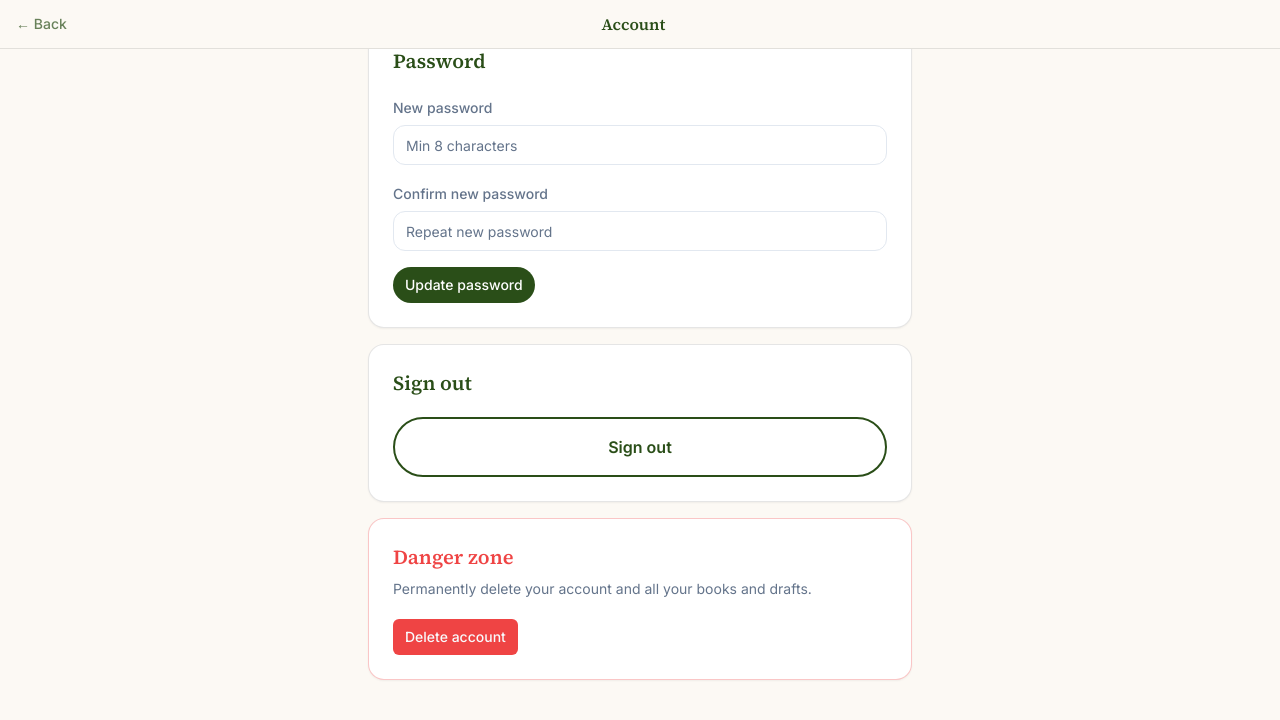
Scenario: Account page › delete account button opens the AlertDialog
The image size is (1280, 720).
(page scrolled)
Click the button "Delete account".
click(455, 637)  # box [393,619,518,655]
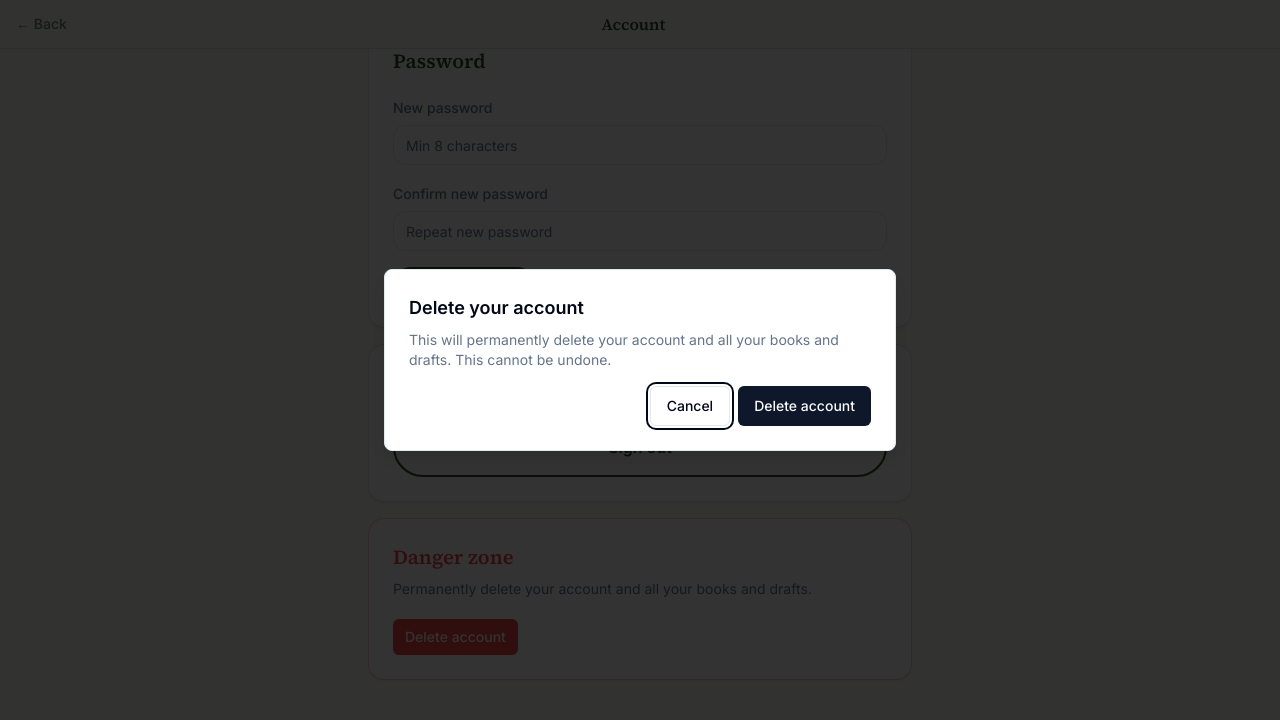
Expected: the dialog is shown, [384,269,896,451]
Expected: the text "This will permanently delete your account and all your books and drafts. This cannot be undone." is shown, [409,331,839,368]
